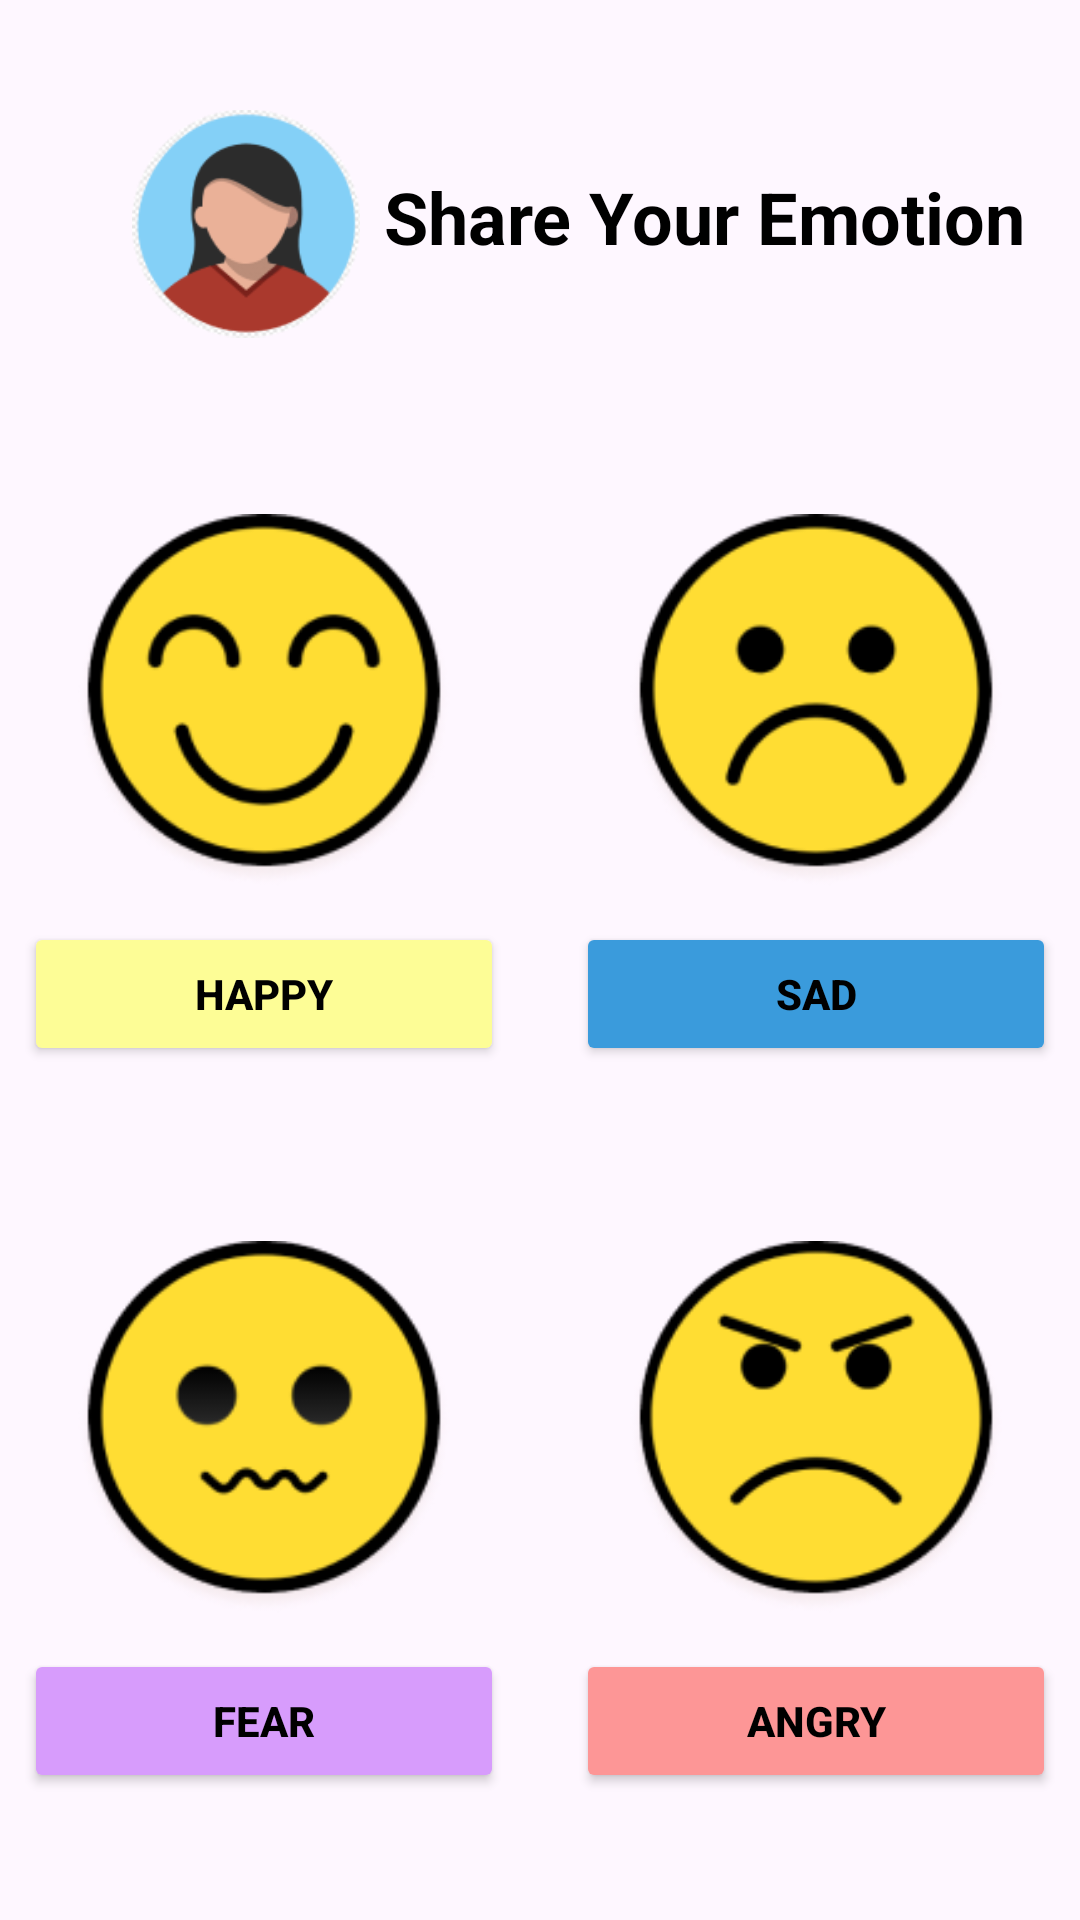

Icons on this 1080 × 1920 Android screen, each with the point to tap as [x,y]:
profile: [245,222]
share sad emoji: [816,690]
